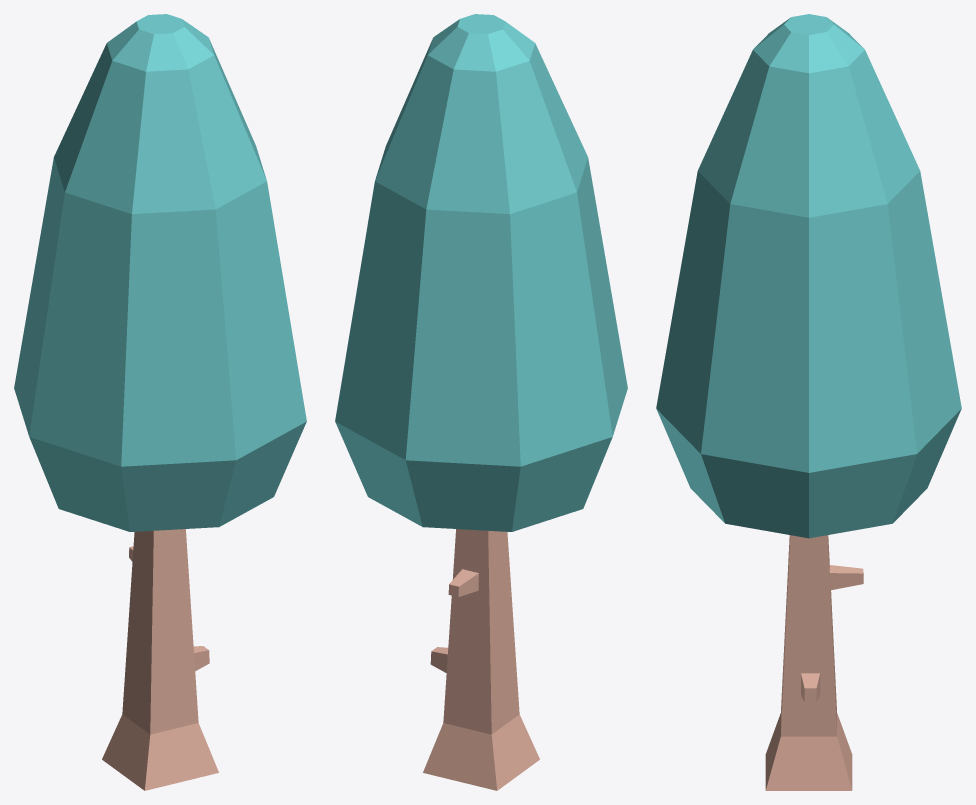
The model's file is tree_cone_dark.glb.
3 renders of one model, left to right at view 1: azimuth 30°, elevation 25°; view 2: azimuth 150°, elevation 25°; view 3: azimuth 270°, elevation 25°, orthographic.
Parts seen in each view (by area): view 1: tree_cone_dark; view 2: tree_cone_dark; view 3: tree_cone_dark.
Boxes of the visible parts, x1,y1,x2,y2 form: tree_cone_dark: (14,14,306,790); tree_cone_dark: (335,14,627,790); tree_cone_dark: (656,14,961,790).
Bounding box in the file's own units: 0.5297 × 1.43 × 0.5297.
